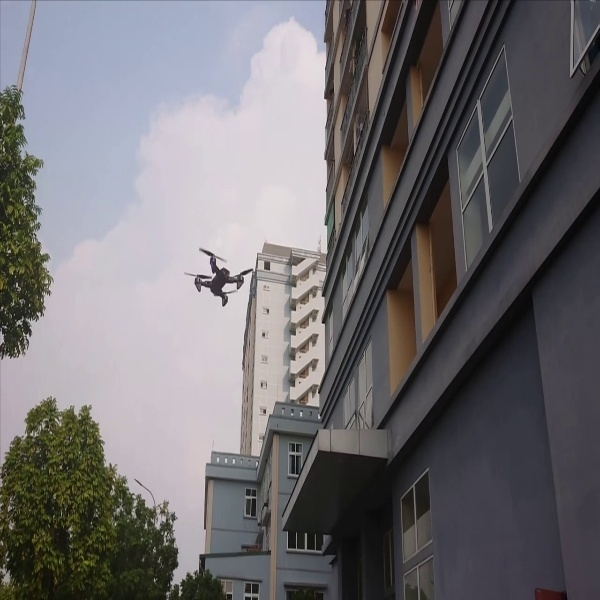drone: (183, 240, 256, 311)
